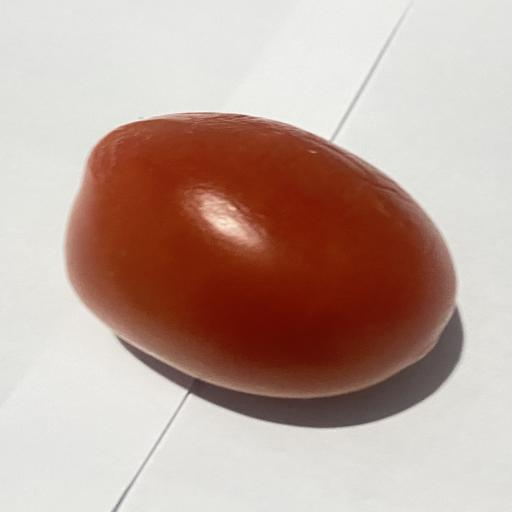spoiled: (66, 113, 456, 398), (194, 191, 265, 251)
